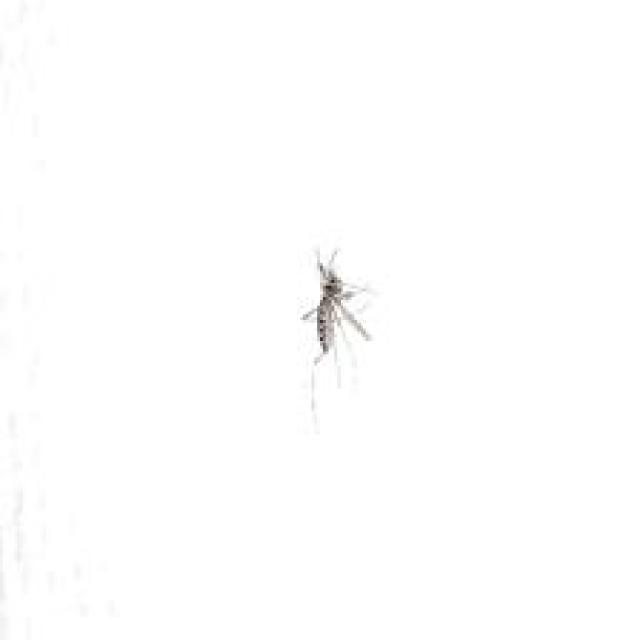Aedes albopictus: (298, 246, 373, 423)
